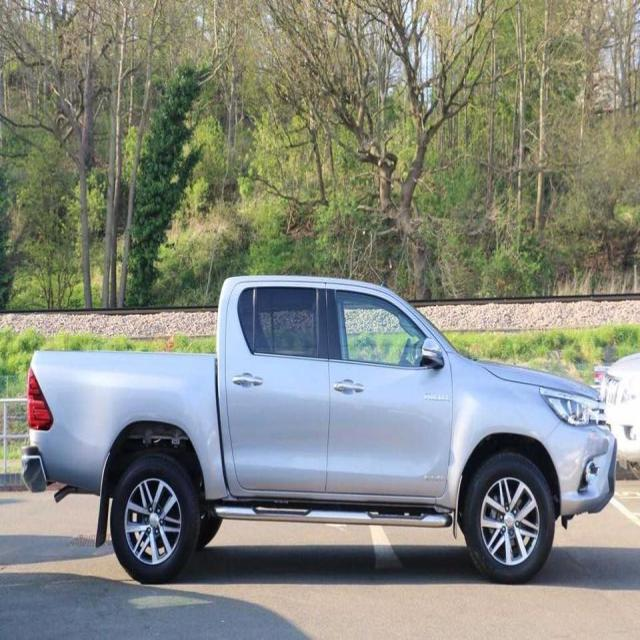light_vehicle: (16, 263, 626, 594)
